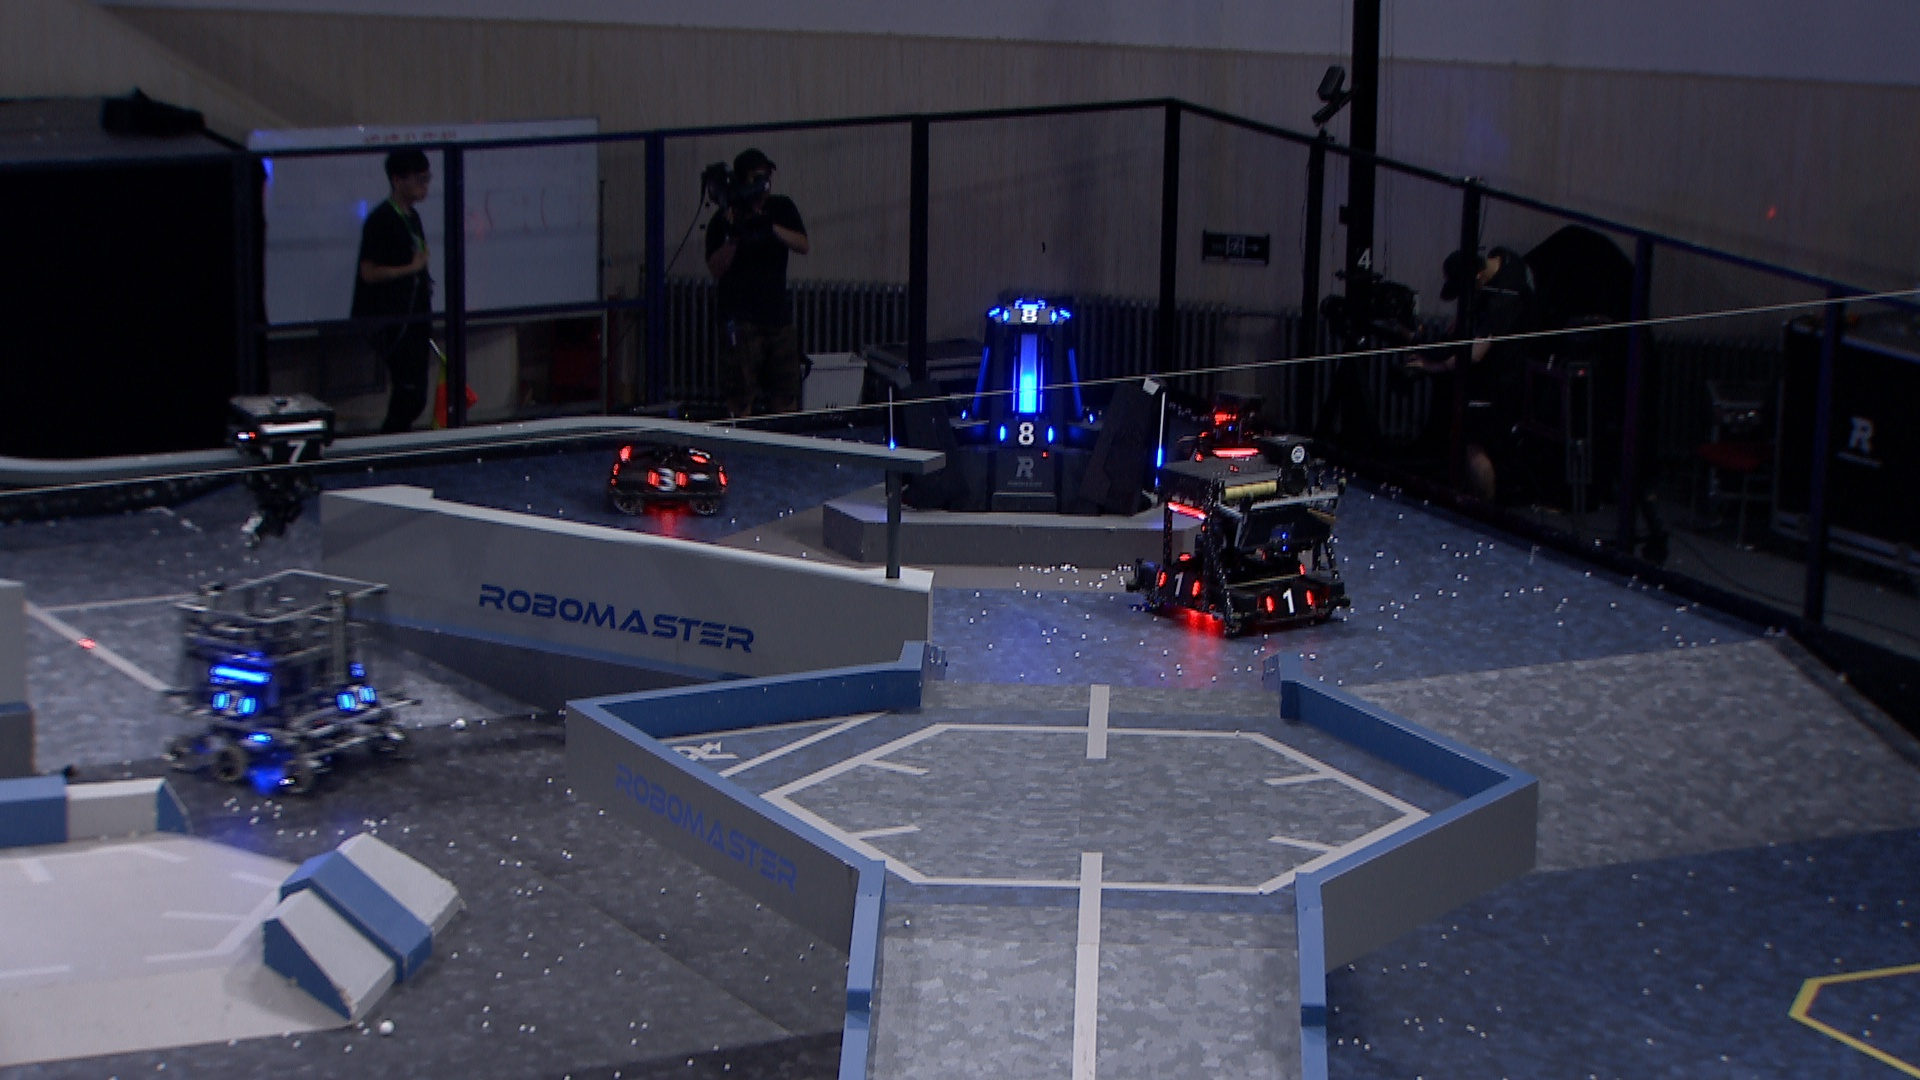armor: (257, 433, 328, 467), (996, 417, 1058, 451), (1064, 351, 1092, 414), (1261, 583, 1313, 616), (1001, 302, 1062, 330), (1156, 568, 1207, 599), (972, 344, 992, 415), (645, 463, 690, 493), (214, 688, 257, 719), (340, 680, 376, 713), (680, 439, 713, 465), (1021, 371, 1040, 413), (1153, 448, 1168, 488)
base: (878, 284, 1174, 518)
car: (164, 562, 414, 798), (1127, 451, 1353, 638), (603, 392, 732, 517), (1176, 394, 1280, 491)
watcher: (219, 394, 340, 553)
